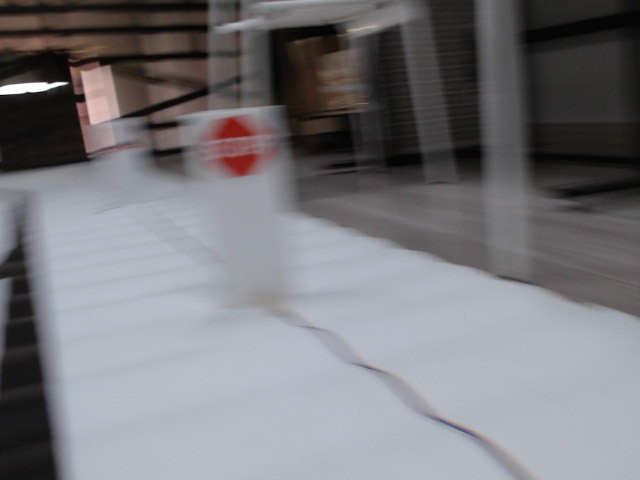Stop: (205, 117, 264, 177)
